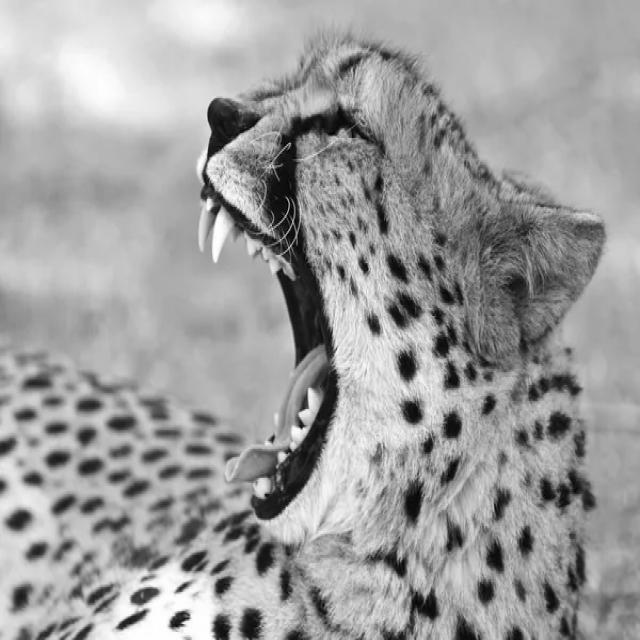Animal: (0, 40, 606, 639)
